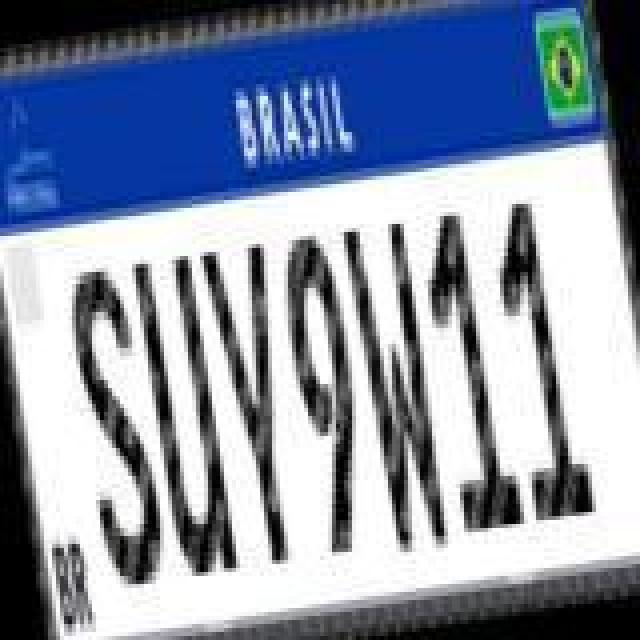1: (414, 198, 530, 538), (482, 192, 598, 528)
9: (272, 224, 384, 560)
S: (58, 260, 174, 596)
U: (128, 248, 240, 584)
W: (338, 212, 454, 556)
Y: (196, 238, 316, 570)
